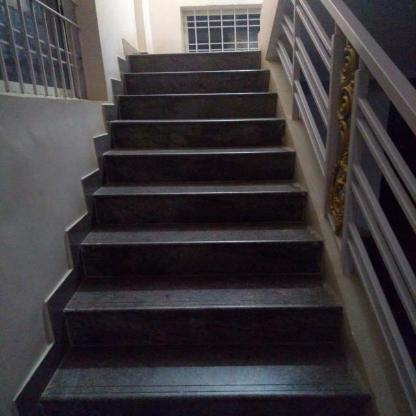stair: (101, 41, 312, 416)
